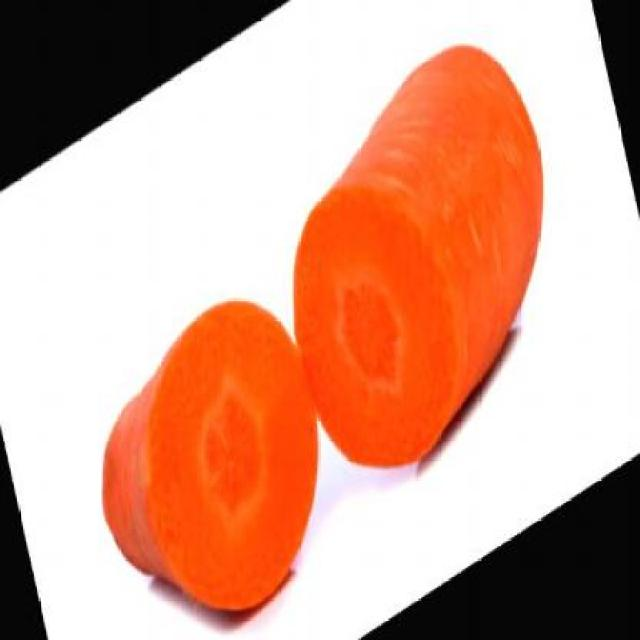carrot: (258, 4, 585, 513), (76, 256, 347, 638)
